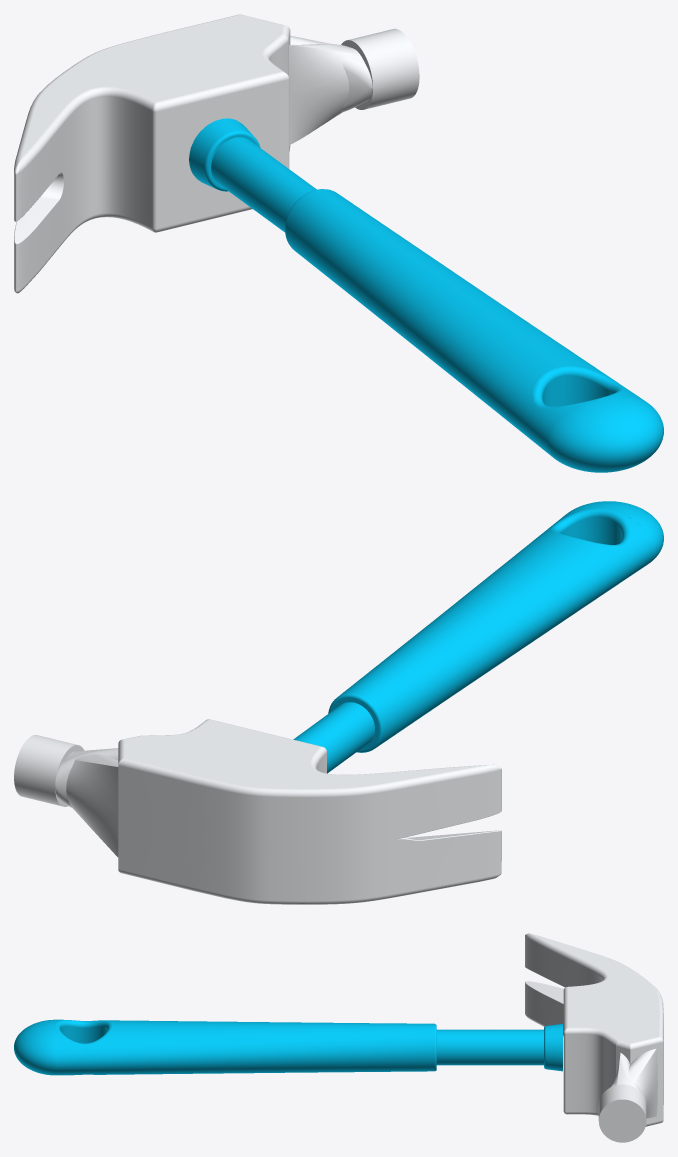
The model's file is Hammer.glb.
The picture shows the model from 3 angles, top to bottom: view 1: azimuth 30°, elevation 25°; view 2: azimuth 150°, elevation 25°; view 3: azimuth 270°, elevation 25°; orthographic projection. The views are drawn at different scales.
Bounding box in the file's own units: 0.1481 × 0.04 × 0.2728.
